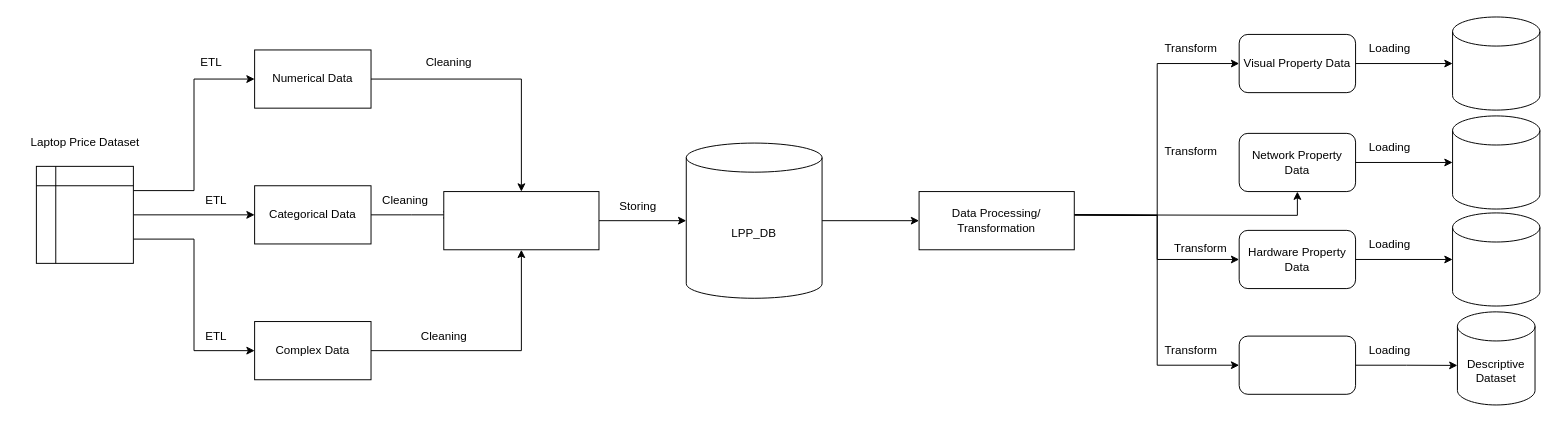
The diagram is 1557 pixels wide and 422 high, and some of its shapes have lost their labels. The shapes that lost their labels are listed below. From the top down, each one's centre as x and y in pixels, then its label:
the point at 1496,63: Visual Dataset
the point at 1496,162: Network Dataset
the point at 521,220: Data Preprosseing
the point at 1496,259: Hardware Dataset
the point at 1297,364: Descriptive Property Data
